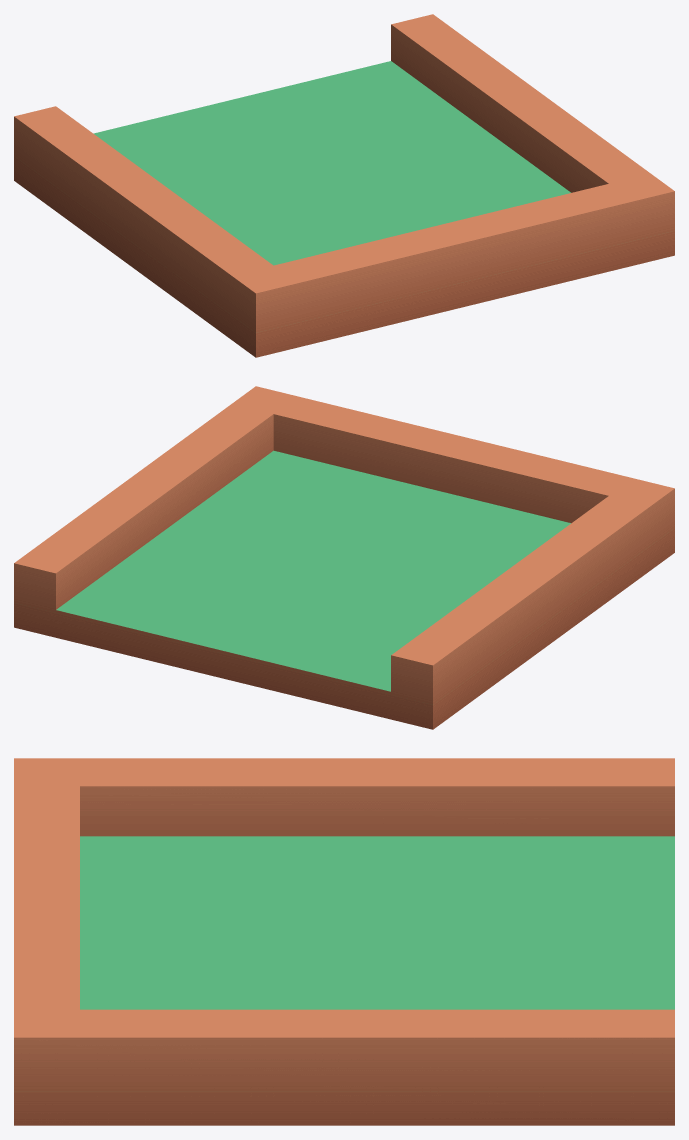
File: end.glb
3 renders of one model, top to bottom at view 1: azimuth 30°, elevation 25°; view 2: azimuth 150°, elevation 25°; view 3: azimuth 270°, elevation 25°, orthographic. The views are drawn at different scales.
Parts seen in each view (by area): view 1: end; view 2: end; view 3: end.
Part boxes in pixels (x1,y1,x2,y2): end: (14, 14, 674, 357); end: (14, 386, 674, 729); end: (14, 758, 674, 1125).
Bounding box in the file's own units: 0.9999 × 0.1467 × 0.9999.
Materials: 1 (1 with a texture image).
